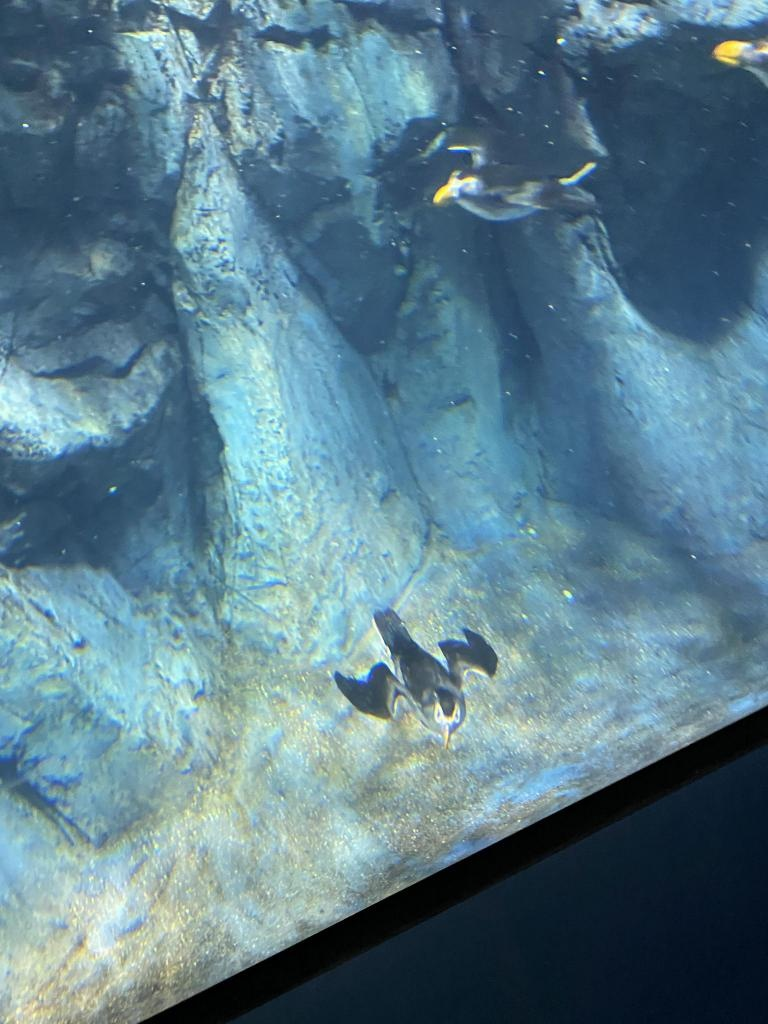puffin: (334, 608, 498, 750), (431, 130, 607, 222), (710, 35, 768, 95)
